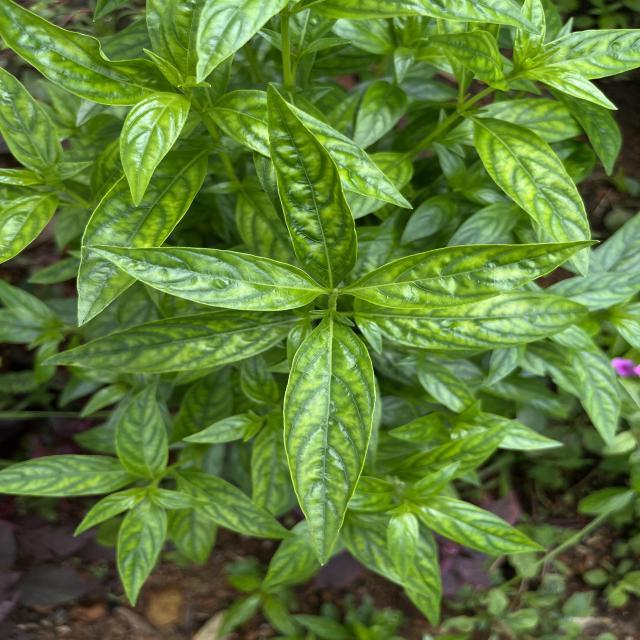Andrographis paniculata: (278, 316, 379, 570), (74, 146, 212, 330), (471, 112, 599, 282), (264, 80, 359, 286), (340, 238, 603, 312), (35, 307, 298, 376), (82, 242, 326, 312), (350, 290, 592, 352), (117, 90, 194, 209), (173, 469, 300, 541), (390, 417, 520, 484), (421, 494, 550, 557), (0, 65, 66, 174), (0, 451, 134, 497), (114, 501, 168, 608), (114, 379, 170, 481), (388, 510, 418, 582)
